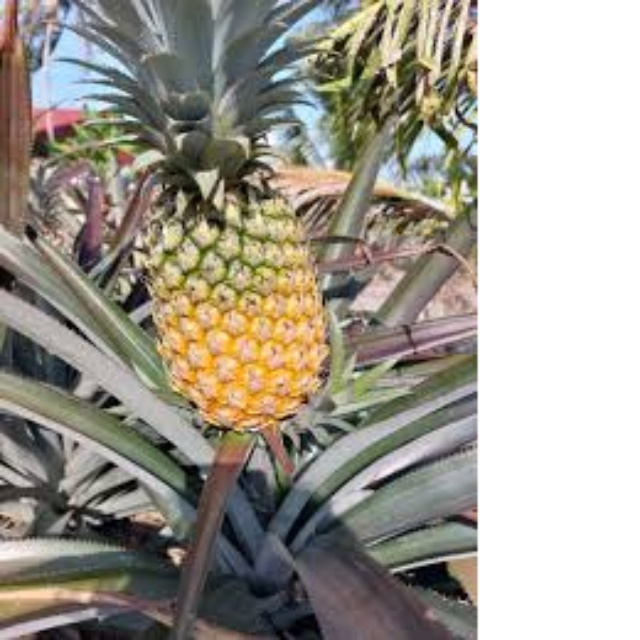thom: (118, 119, 337, 430)
